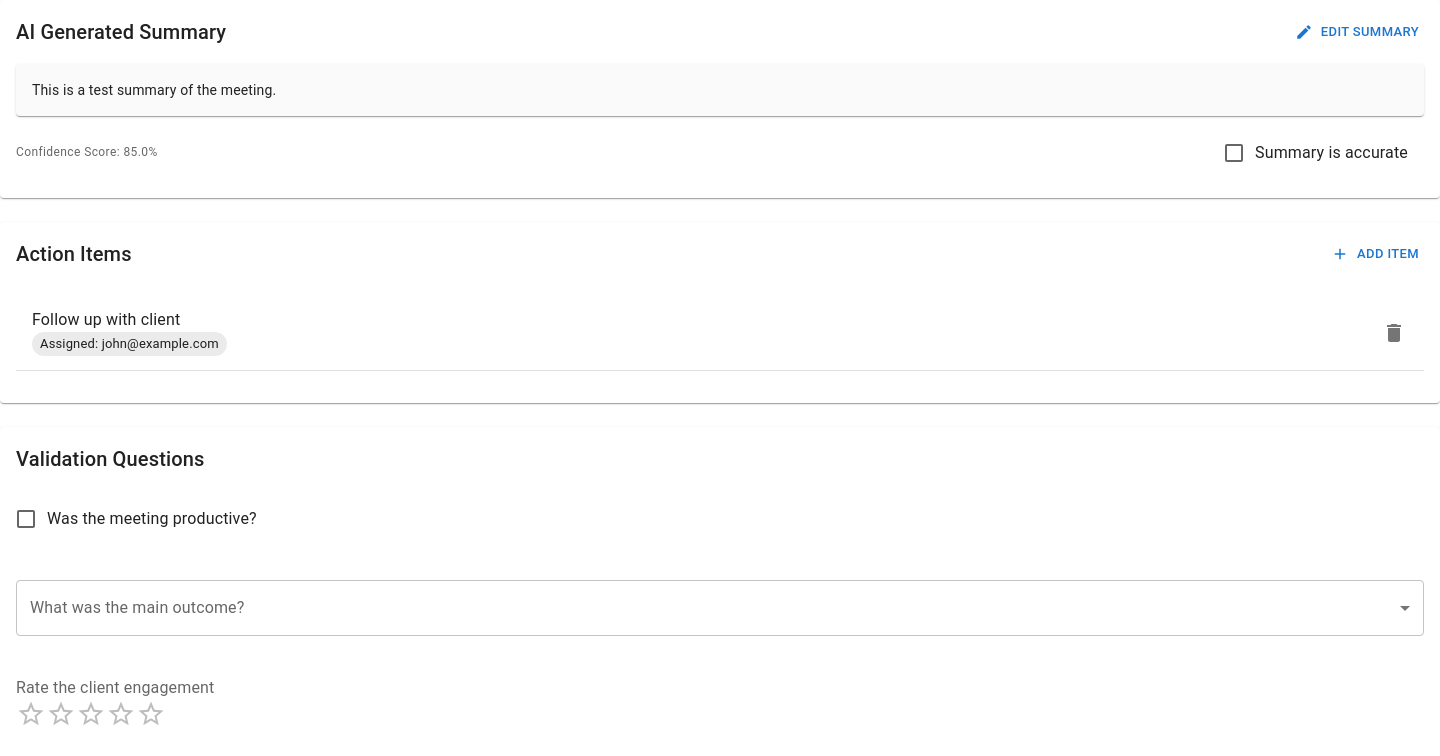
Test: ValidationForm › allows adding new action items
Click the button "Add Item": point(1376, 254) [1328,239,1424,269]
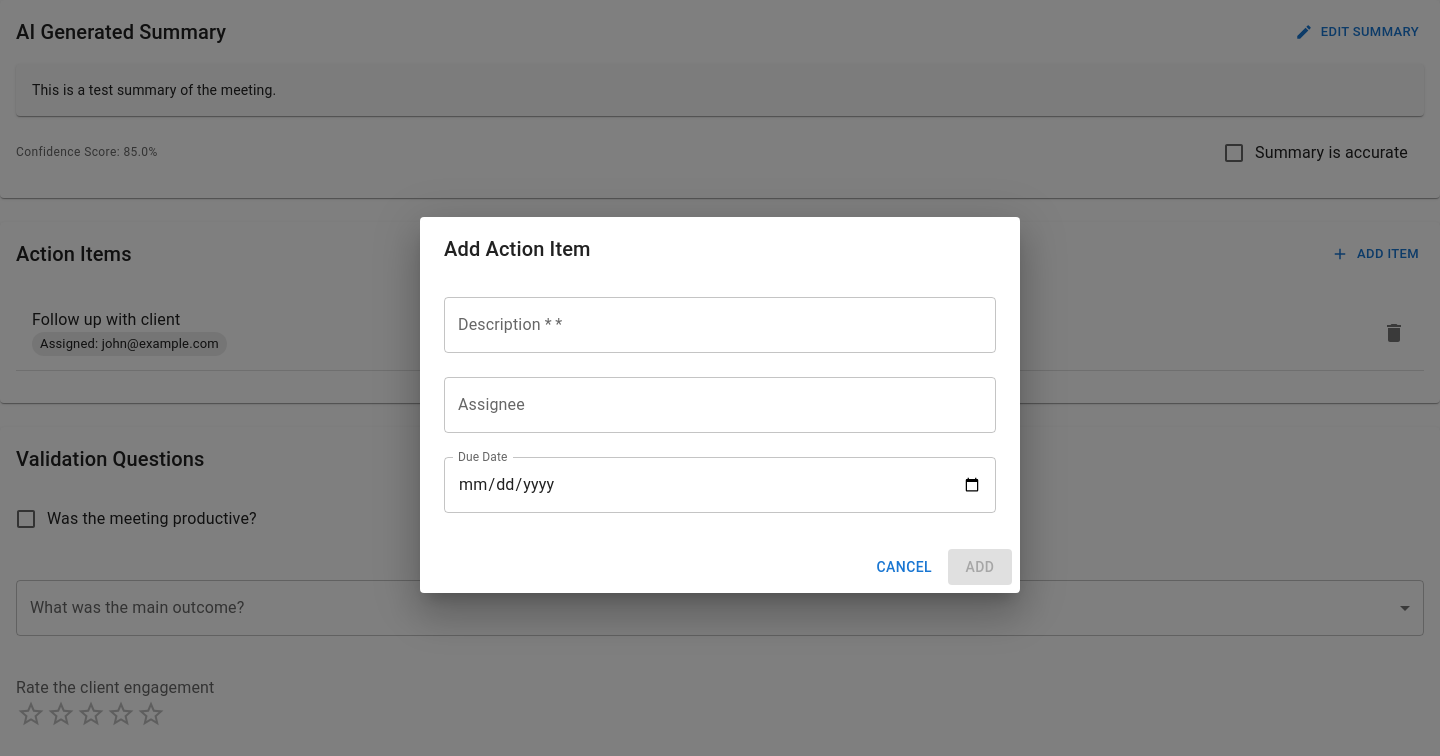
Now the heading "Add Action Item" is shown, box [444,237,591,261]
Note: Fill in the form
In the field labelled "Description * *": point(720, 325) [444,297,996,353], type "New action item"
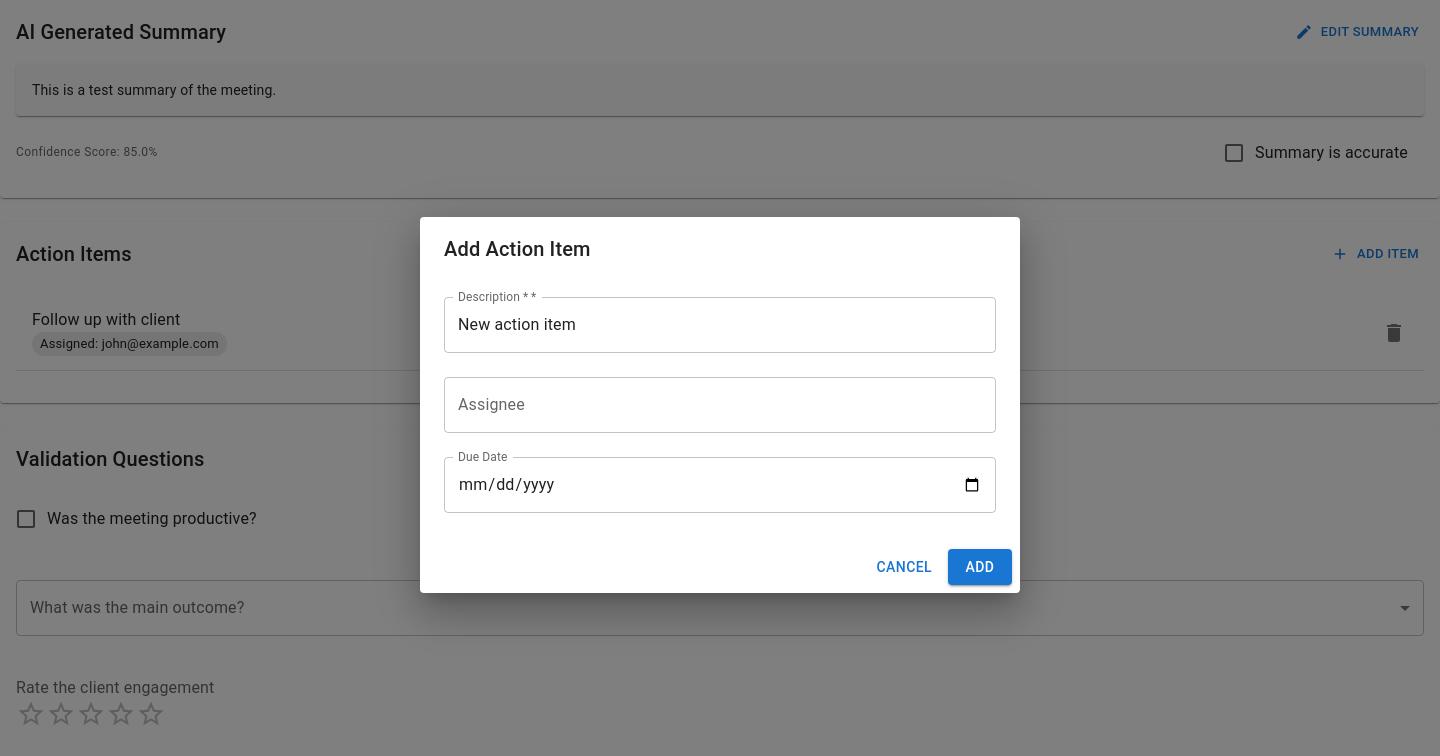
In the field labelled "Assignee": point(720, 405) [444,377,996,433], type "jane@example.com"
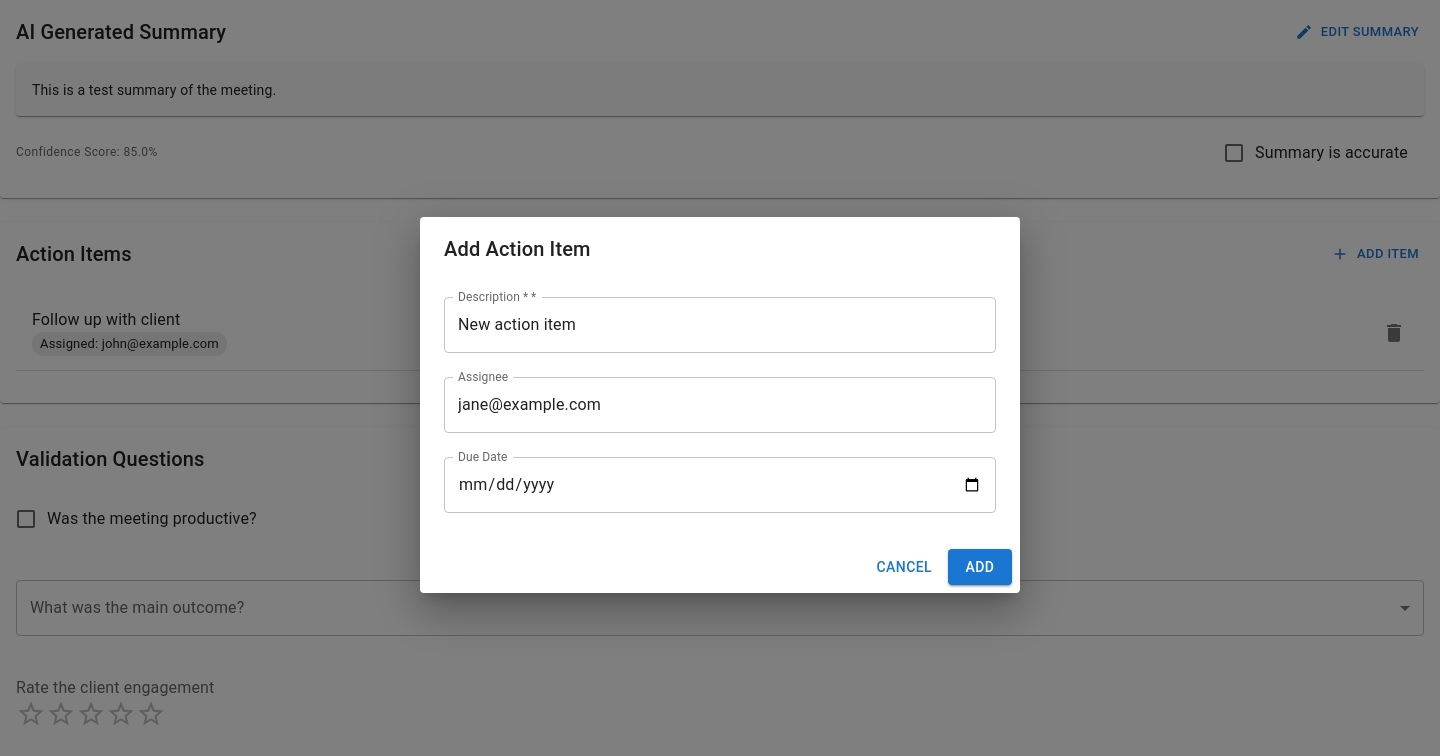
Note: Add the item
Click the button "Add": point(980, 567) [948,549,1012,585]
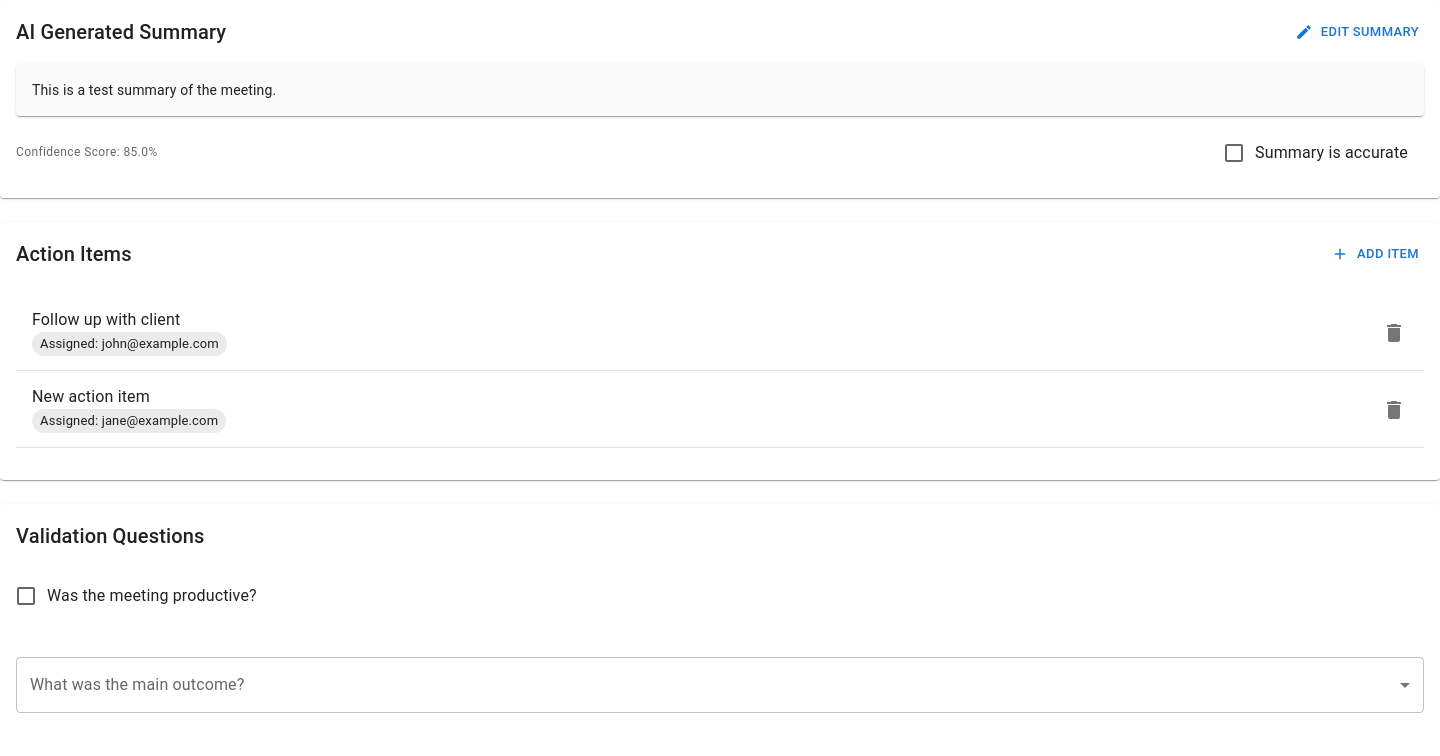
Now the heading "Add Action Item" is gone
